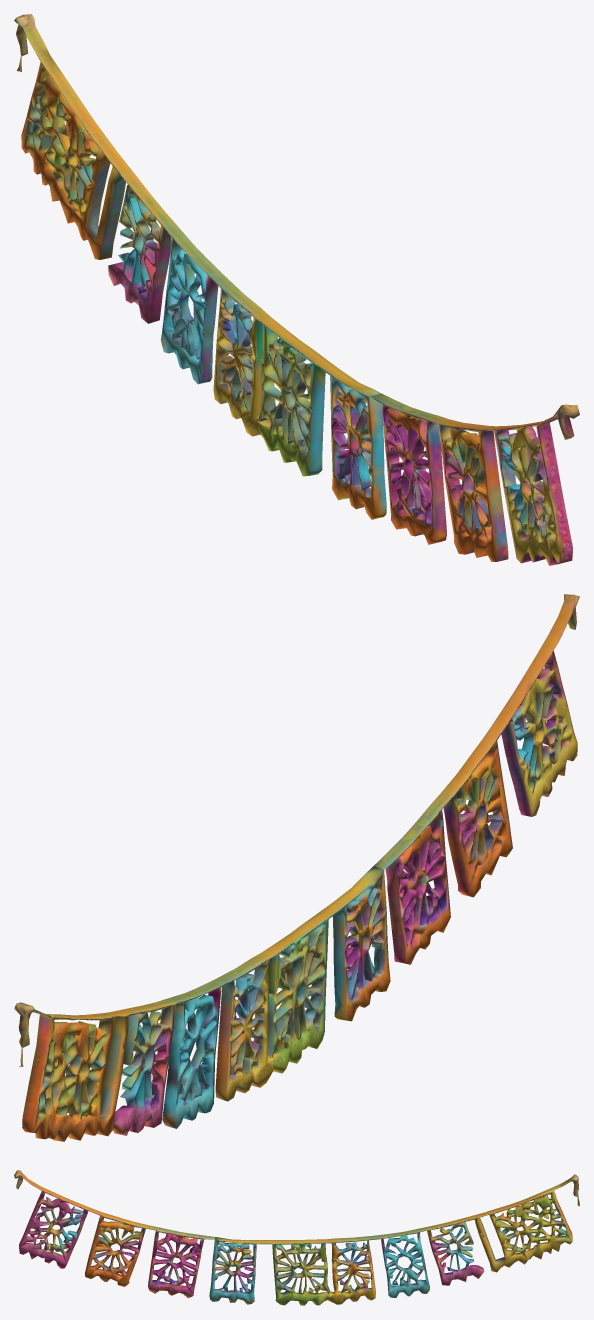
Rendered from papel-picado.glb.
3 renders of one model, top to bottom at view 1: azimuth 30°, elevation 25°; view 2: azimuth 150°, elevation 25°; view 3: azimuth 270°, elevation 25°, orthographic. The views are drawn at different scales.
Parts seen in each view (by area): view 1: tripo_node_6a4283e2-03fa-4766-b793-32dfbf46125f; view 2: tripo_node_6a4283e2-03fa-4766-b793-32dfbf46125f; view 3: tripo_node_6a4283e2-03fa-4766-b793-32dfbf46125f.
Boxes of the visible parts, x1=… form: tripo_node_6a4283e2-03fa-4766-b793-32dfbf46125f: x1=14, y1=14, x2=579, y2=565; tripo_node_6a4283e2-03fa-4766-b793-32dfbf46125f: x1=14, y1=594, x2=579, y2=1141; tripo_node_6a4283e2-03fa-4766-b793-32dfbf46125f: x1=14, y1=1170, x2=579, y2=1305.
Size of the model in its own units: 0.0384 by 0.5 by 1.92.
Materials: 1 (1 with a texture image).
